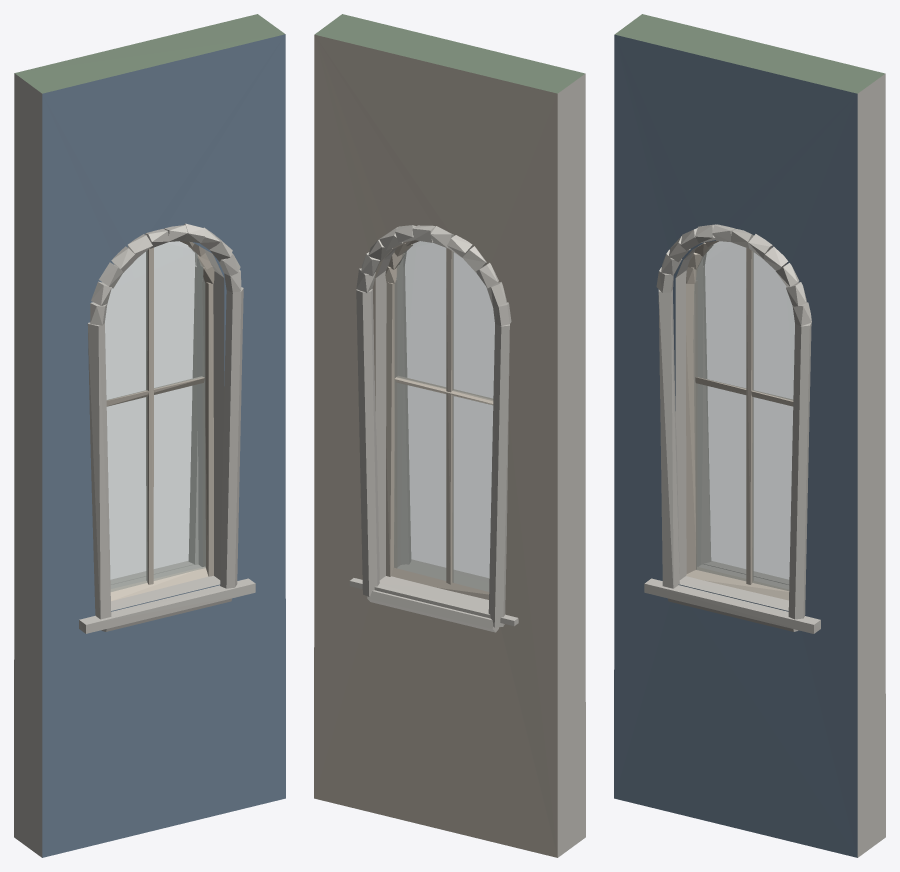
The model's file is SM_Kit_Wall_Window_Arched_LOD1.glb.
The picture shows the model from 3 angles, left to right: view 1: azimuth 30°, elevation 25°; view 2: azimuth 150°, elevation 25°; view 3: azimuth 330°, elevation 25°; orthographic projection.
Parts seen in each view (by area): view 1: SM_Kit_Wall_Window_Arched_LOD1; view 2: SM_Kit_Wall_Window_Arched_LOD1; view 3: SM_Kit_Wall_Window_Arched_LOD1.
Part boxes in pixels (x1,y1,x2,y2): SM_Kit_Wall_Window_Arched_LOD1: [14, 14, 285, 857]; SM_Kit_Wall_Window_Arched_LOD1: [314, 14, 585, 857]; SM_Kit_Wall_Window_Arched_LOD1: [614, 14, 885, 857].
Size of the model in its own units: 1 by 3 by 0.2913.
